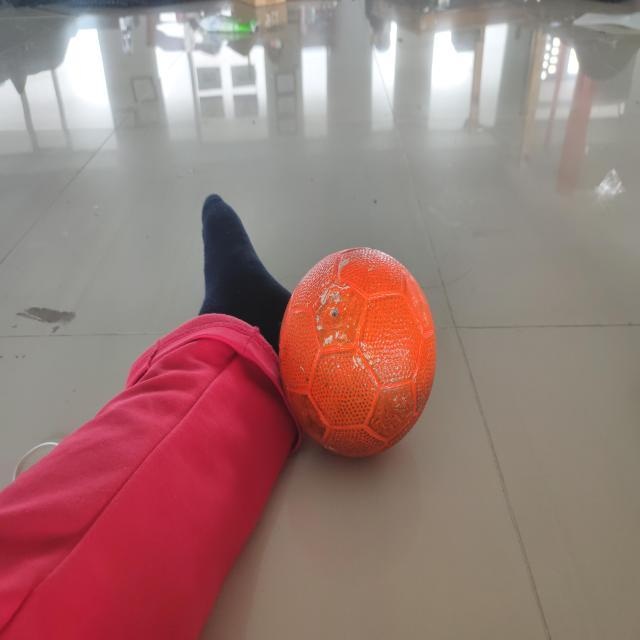bola: (270, 238, 444, 471)
